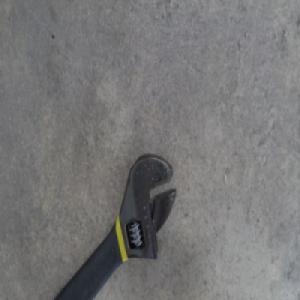AdjustableWrench: (56, 152, 179, 298)
